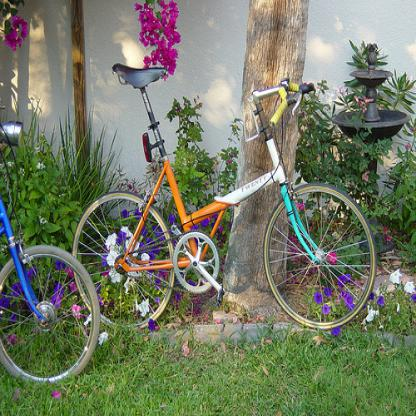bicycle: (76, 62, 377, 328), (0, 121, 102, 384)
